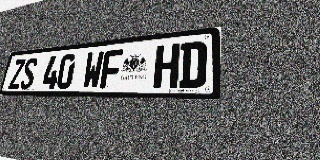0: (55, 54, 76, 89)
4: (41, 55, 62, 89)
D: (178, 41, 207, 88)
F: (99, 49, 123, 89)
H: (153, 43, 180, 88)
S: (19, 57, 38, 89)
W: (82, 51, 104, 89)
Z: (8, 59, 26, 89)
